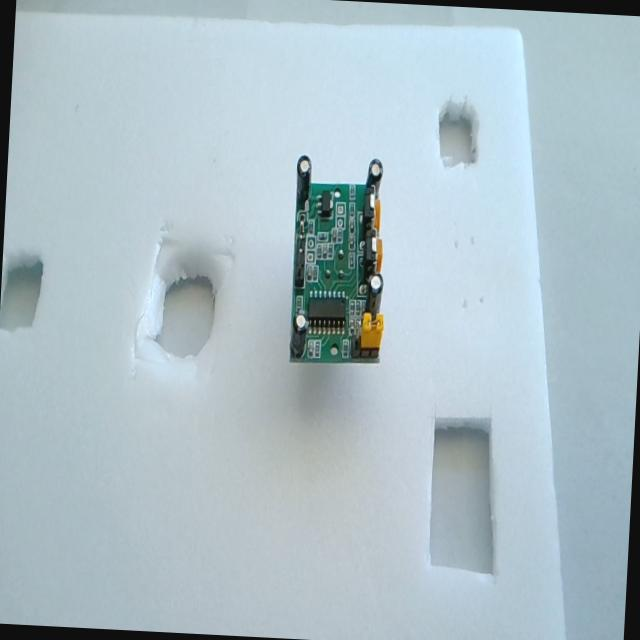Electrolytic capacitor: (294, 154, 312, 205), (365, 272, 384, 318), (365, 156, 384, 201), (290, 312, 308, 358)
IC: (306, 294, 348, 336)
pinheader: (291, 218, 311, 291)
